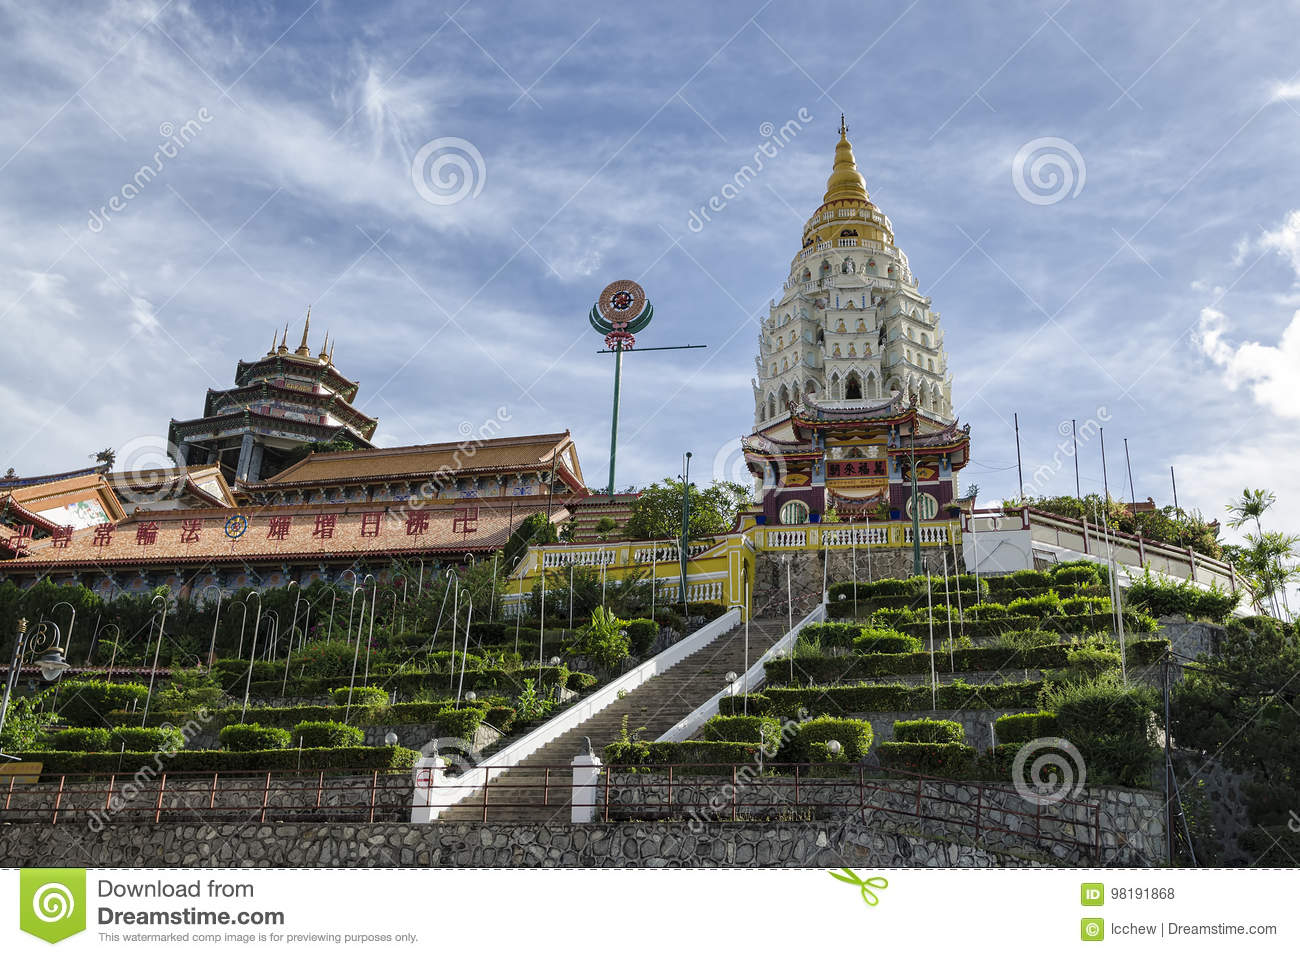Buddhist Temple: (707, 98, 972, 507)
